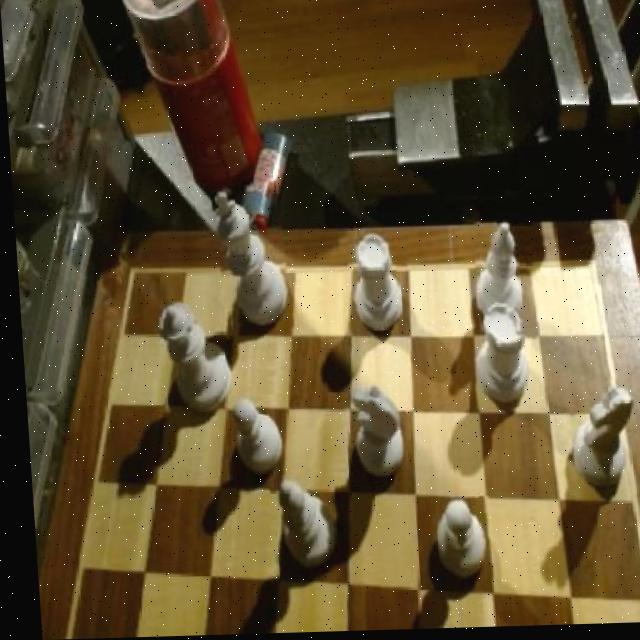black-rook: (466, 217, 534, 338), (262, 473, 336, 576)
white-bishop: (210, 184, 288, 337)
white-king: (562, 381, 636, 499), (339, 382, 407, 484)
white-knight: (424, 502, 490, 588), (225, 392, 283, 479)
white-pawn: (153, 301, 230, 413)
white-queen: (466, 304, 536, 415), (342, 236, 407, 339)
